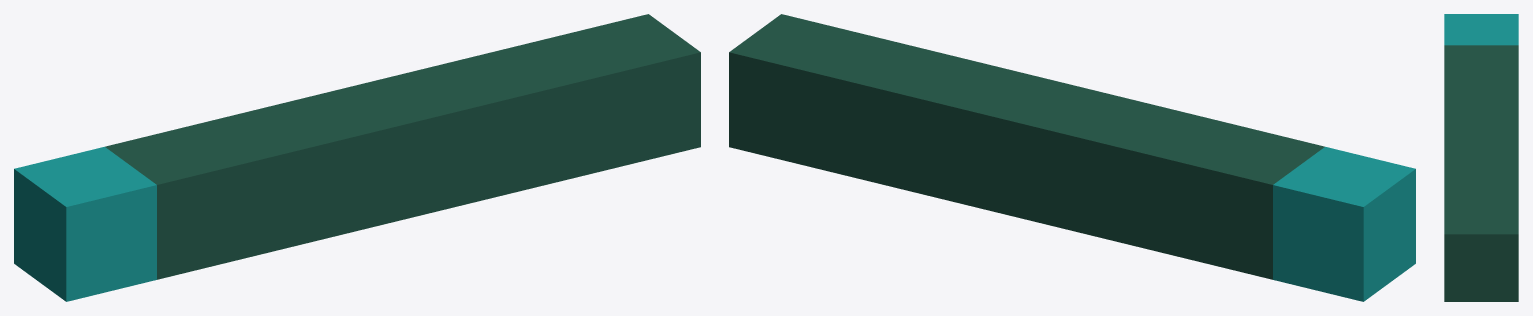
File: LeftArm.obj
3 renders of one model, left to right at view 1: azimuth 30°, elevation 25°; view 2: azimuth 150°, elevation 25°; view 3: azimuth 270°, elevation 25°, orthographic. The views are drawn at different scales.
Visible parts, largest first — view 1: material_1_group, material_0_group; view 2: material_1_group, material_0_group; view 3: material_1_group, material_0_group.
Part boxes in pixels (x1=…): material_1_group: x1=105, y1=14, x2=700, y2=279; material_0_group: x1=14, y1=146, x2=156, y2=301; material_1_group: x1=729, y1=14, x2=1324, y2=279; material_0_group: x1=1273, y1=146, x2=1415, y2=301; material_1_group: x1=1444, y1=45, x2=1518, y2=301; material_0_group: x1=1444, y1=14, x2=1518, y2=45.
Bounding box in the file's own units: 7 × 1 × 1.
